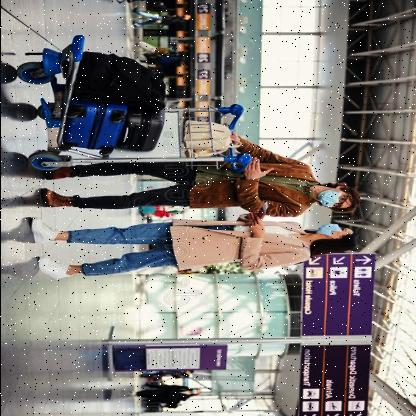airport-trolley: (11, 32, 250, 174)
